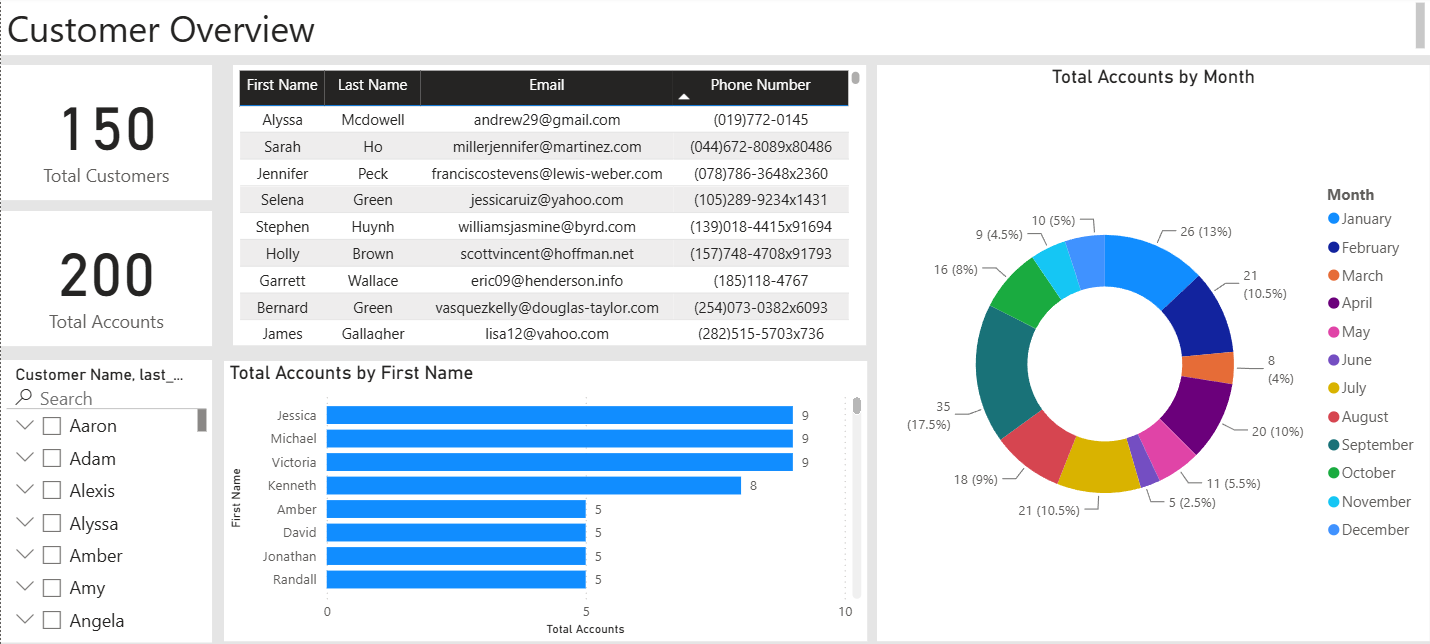

The dashboard page shown, as its layout file describes it:
{"tool":"powerbi","page":{"name":"Customer Overview","canvas":[1280,720],"ordinal":0},"visuals":[{"type":"textbox","box":[0,0,1280,51.6],"z":0},{"type":"card","fields":{"Values":["Measures (2).Total Customers"]},"box":[0,61.3,188.7,120.6],"z":1000},{"type":"card","fields":{"Values":["Measures (2).Total Accounts"]},"box":[0,191.6,188.7,120.6],"z":2000},{"type":"tableEx","fields":{"Values":["customers.first_name","customers.last_name","customers.email","customers.phone_number"]},"box":[208.1,61.3,567.1,250.9],"z":3000},{"type":"slicer","fields":{"Values":["customers.first_name","customers.last_name"]},"box":[0,324.9,188.7,252.9],"z":4000},{"type":"barChart","fields":{"Category":["customers.first_name"],"Y":["Measures (2).Total Accounts"]},"box":[199.4,325.8,575.8,250.9],"z":5000},{"type":"donutChart","fields":{"Series":["customers.created_at.Variation.Date Hierarchy.Month"],"Y":["Measures (2).Total Accounts"]},"box":[784.9,61.3,495.1,516.5],"z":6000}]}

Visuals, with their boxes on the page's 1280x720 design canvas (x1, y1, x2, y2). These are canvas units, not pixel positions in the 1430x644 screenshot, which may show the page scaled, cropped or inside an application window:
textbox: x1=0, y1=0, x2=1280, y2=52
card - Measures (2).Total Customers: x1=0, y1=61, x2=189, y2=182
card - Measures (2).Total Accounts: x1=0, y1=192, x2=189, y2=312
tableEx - customers.first_name x customers.last_name: x1=208, y1=61, x2=775, y2=312
slicer - customers.first_name x customers.last_name: x1=0, y1=325, x2=189, y2=578
barChart - customers.first_name x Measures (2).Total Accounts: x1=199, y1=326, x2=775, y2=577
donutChart - customers.created_at.Variation.Date Hierarchy.Month x Measures (2).Total Accounts: x1=785, y1=61, x2=1280, y2=578
